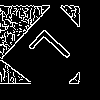L: (27, 27, 80, 79)
